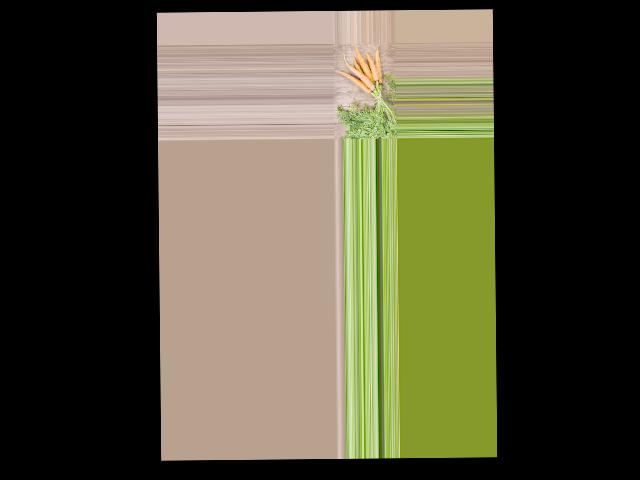carrot: (364, 52, 383, 85)
